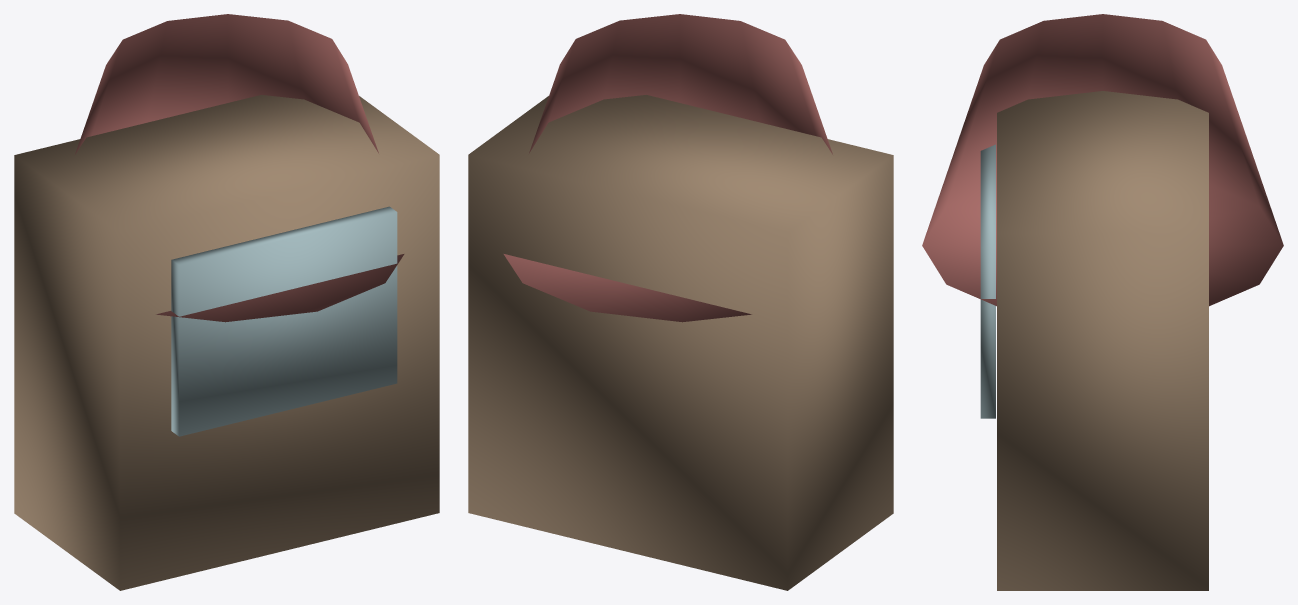
Rendered from jukebox__squat.glb.
The picture shows the model from 3 angles, left to right: view 1: azimuth 30°, elevation 25°; view 2: azimuth 150°, elevation 25°; view 3: azimuth 270°, elevation 25°; orthographic projection.
Visible parts, largest first — view 1: world; view 2: world; view 3: world.
Part boxes in pixels (x1=…): world: x1=14, y1=14, x2=439, y2=590; world: x1=468, y1=14, x2=893, y2=590; world: x1=922, y1=14, x2=1283, y2=590.
Bounding box in the file's own units: 0.902 × 1.21 × 0.8856.
